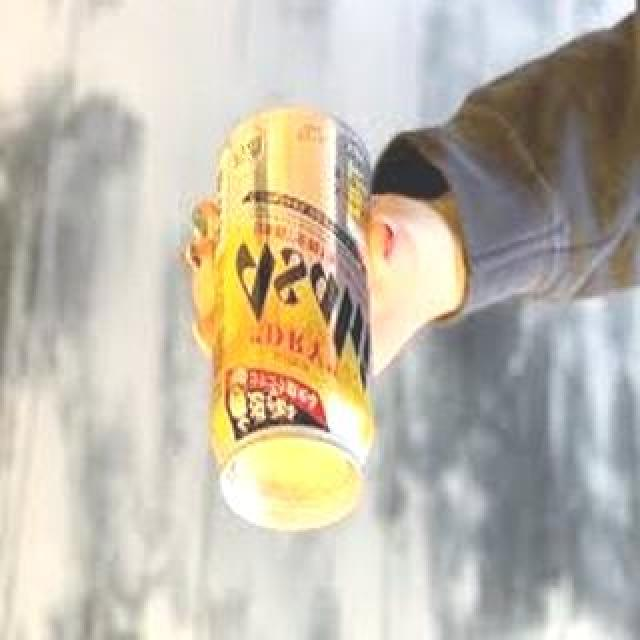Can: (206, 95, 378, 535)
